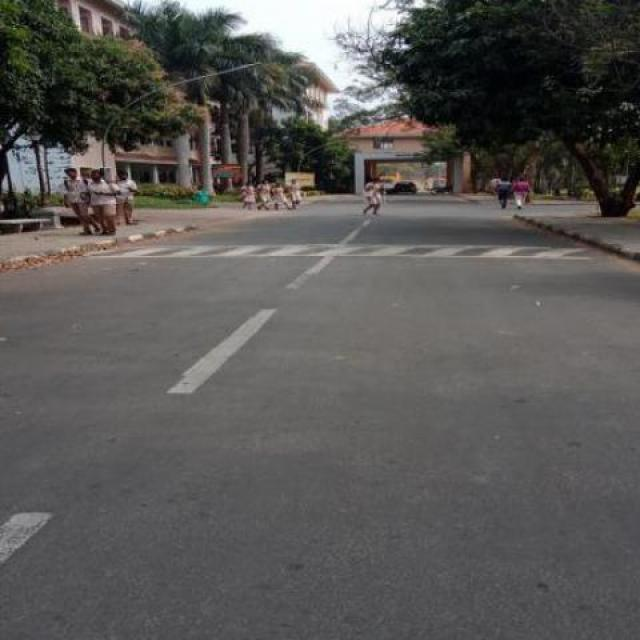Speed Bump: (76, 242, 599, 260)
